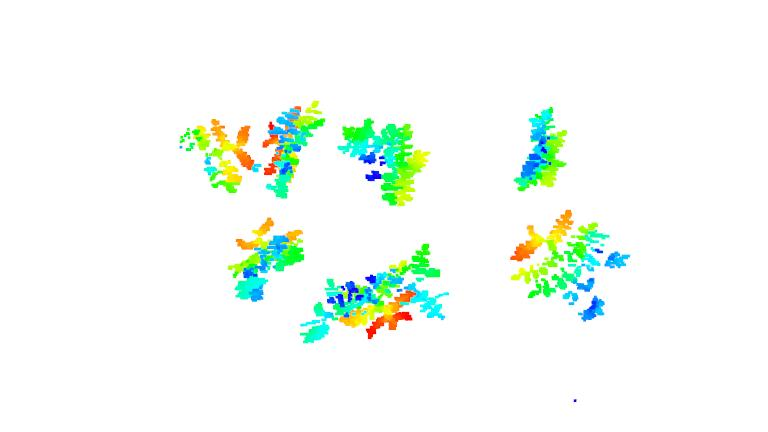chickpea: (509, 210, 631, 321), (302, 270, 417, 350), (337, 117, 429, 209), (174, 117, 261, 197), (226, 215, 304, 302), (261, 99, 324, 202), (510, 107, 573, 196), (385, 246, 452, 322)
